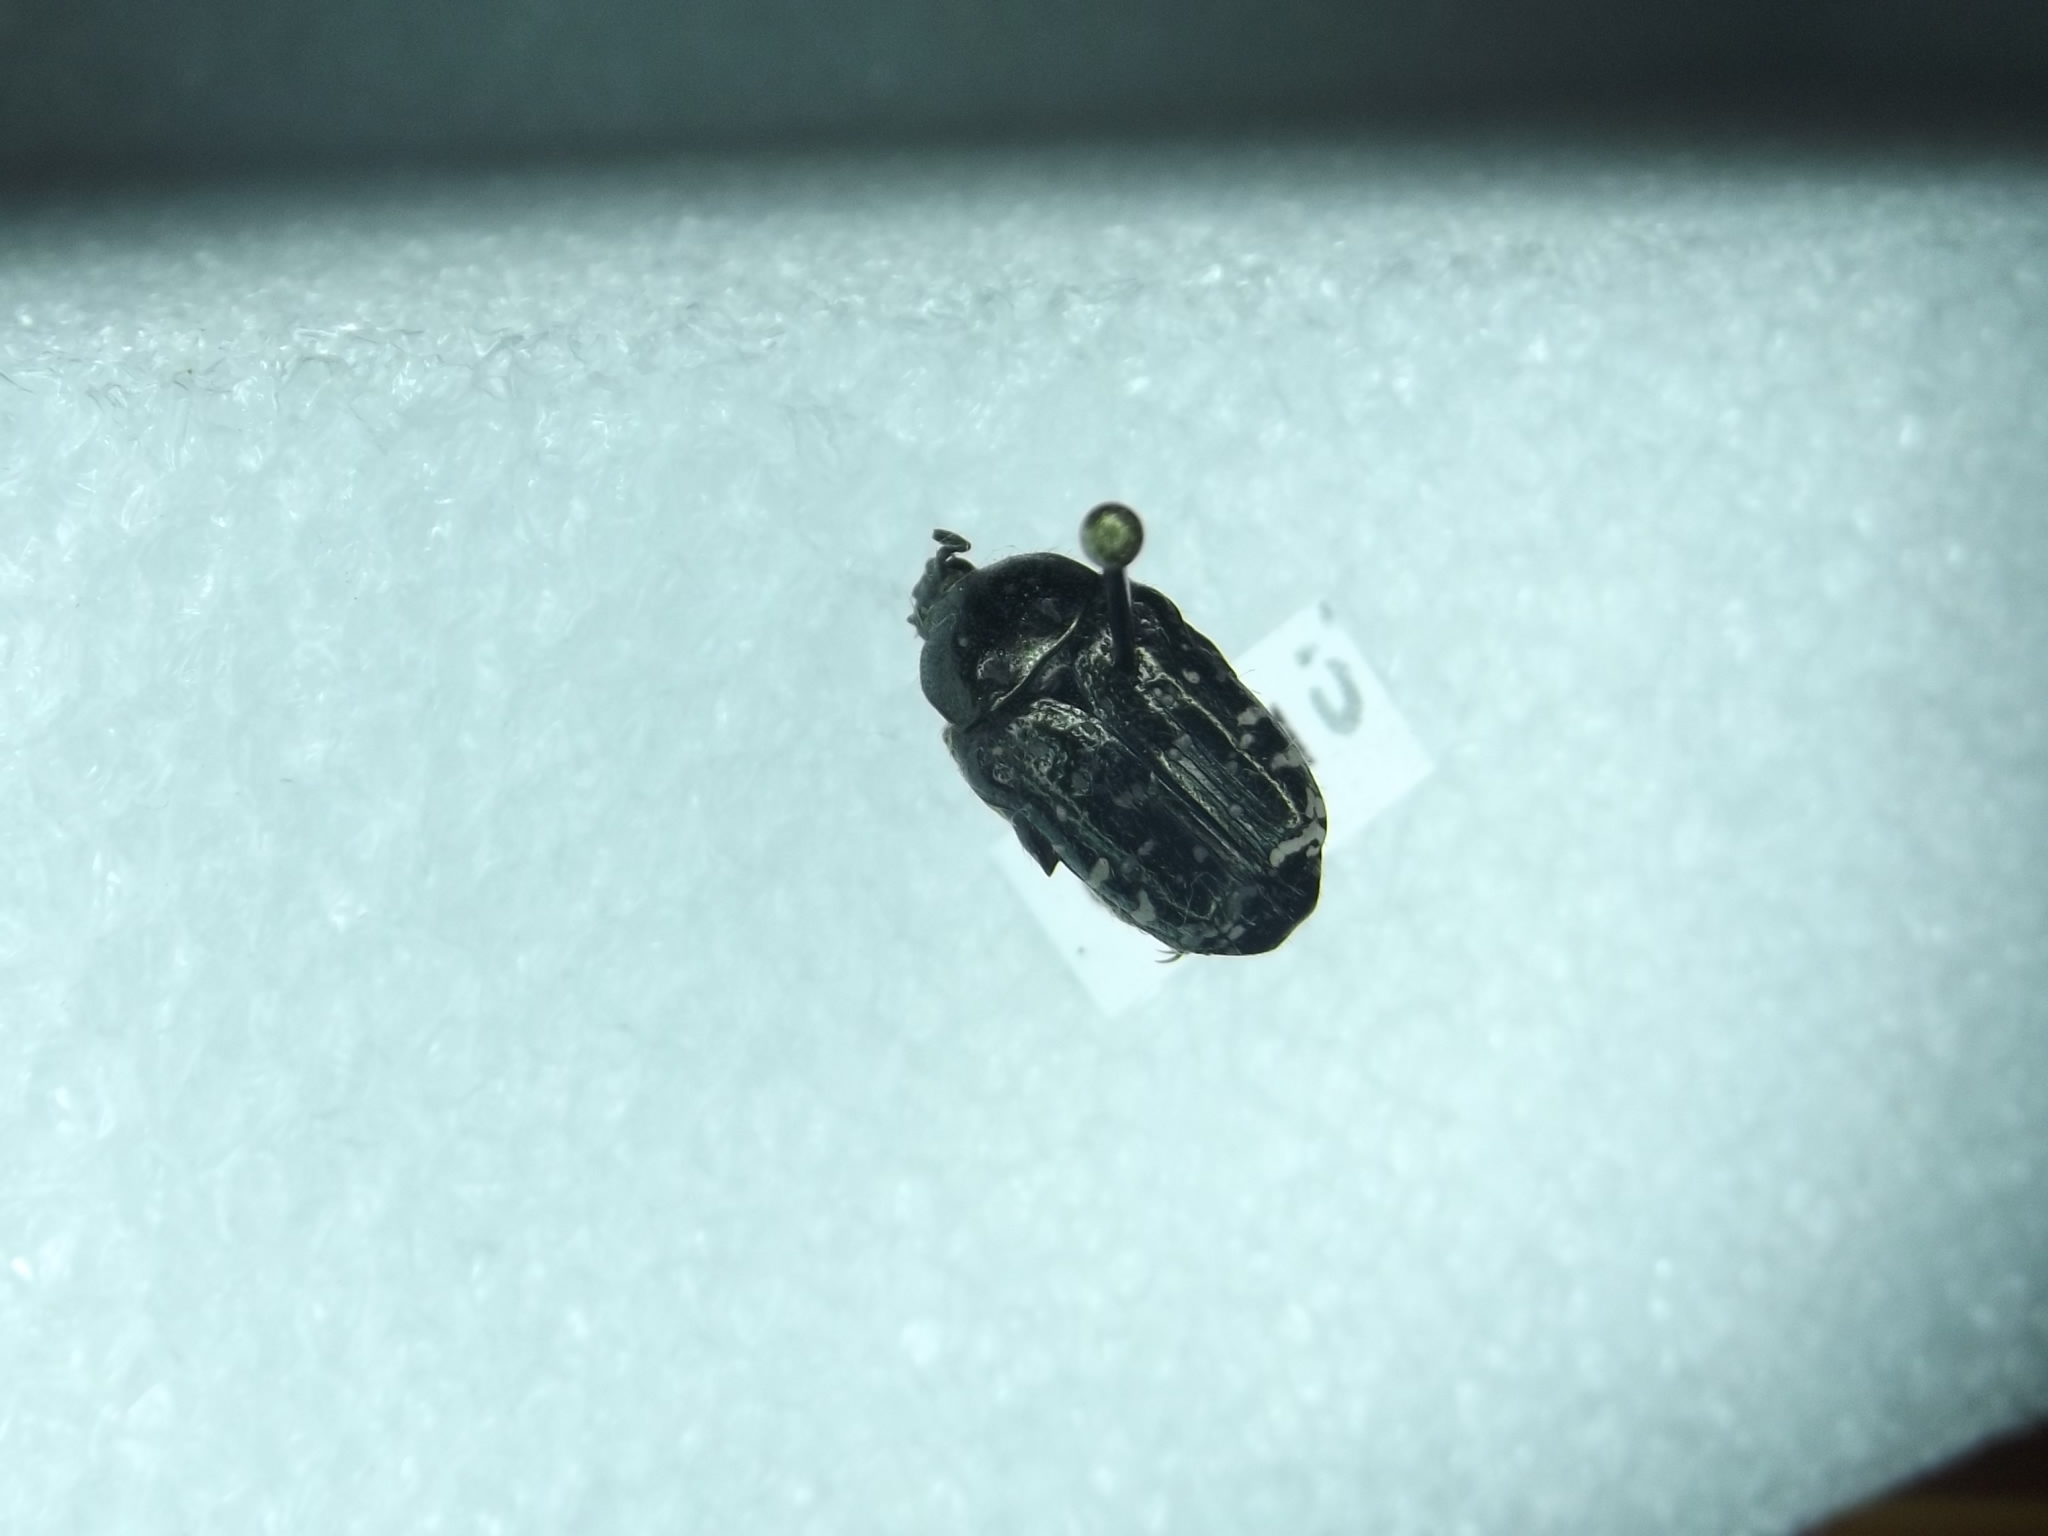Oxythyrea_albopicta: (879, 520, 1347, 968)
